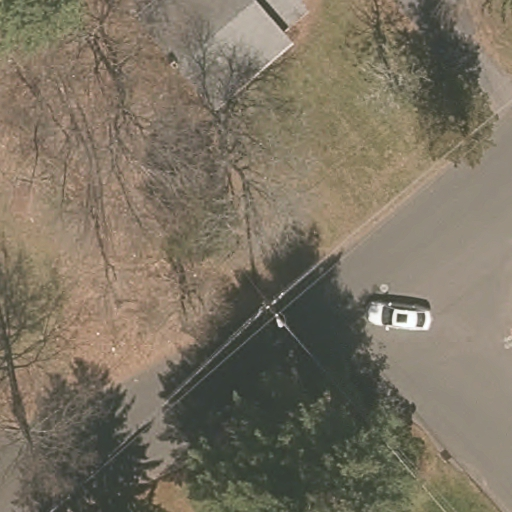DT: (250, 290, 284, 326)
